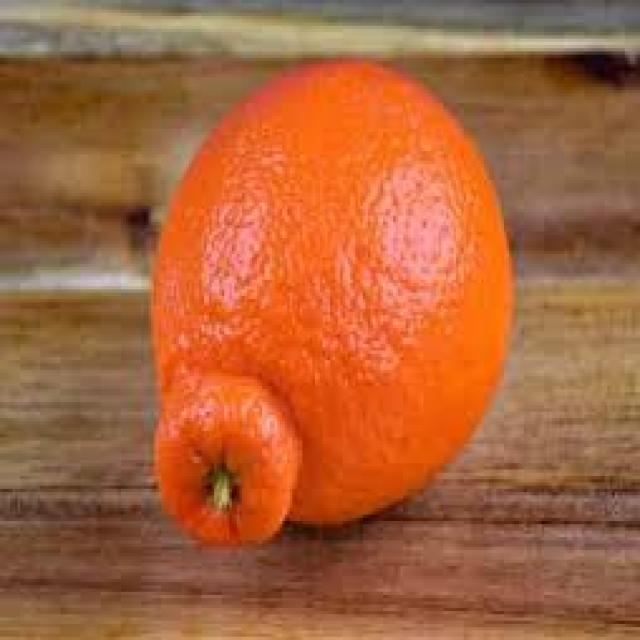orange: (146, 47, 524, 541)
